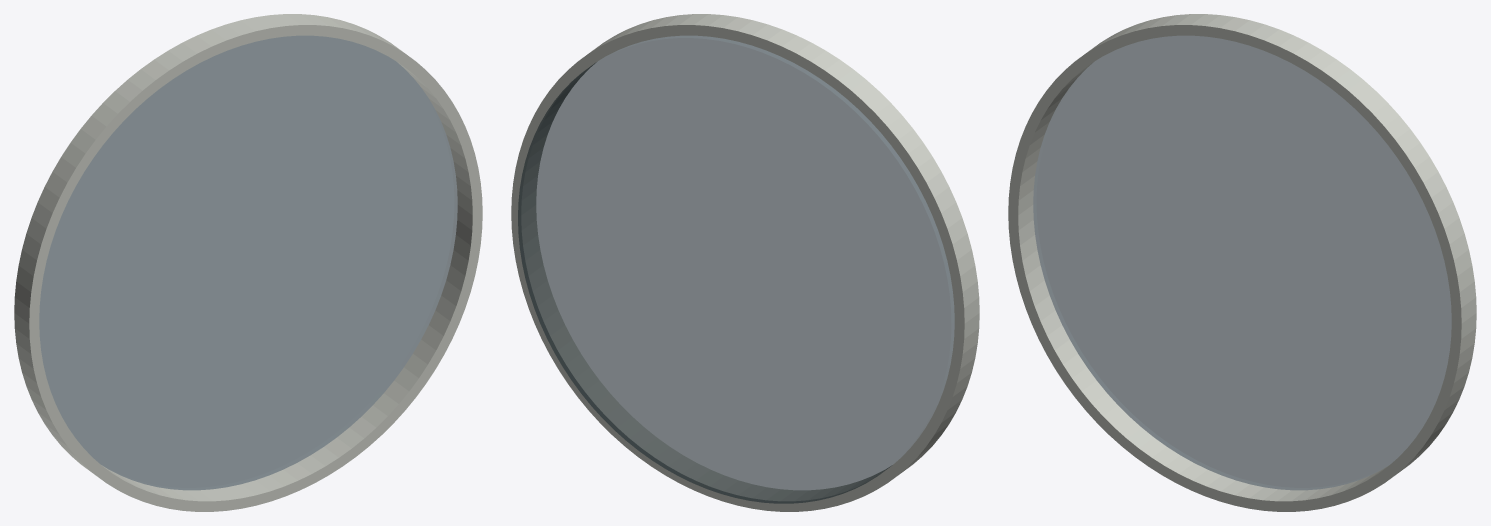
The model's file is moderno_circle.glb.
3 renders of one model, left to right at view 1: azimuth 30°, elevation 25°; view 2: azimuth 150°, elevation 25°; view 3: azimuth 330°, elevation 25°, orthographic.
Parts seen in each view (by area): view 1: window_glass#0001, window_reveal#0001; view 2: window_glass#0001, window_reveal#0001; view 3: window_glass#0001, window_reveal#0001.
Boxes of the visible parts, <box> form: window_glass#0001: <box>39,35,457,490</box>; window_reveal#0001: <box>14,14,482,511</box>; window_glass#0001: <box>518,35,954,503</box>; window_reveal#0001: <box>511,14,979,511</box>; window_glass#0001: <box>1033,35,1451,490</box>; window_reveal#0001: <box>1008,14,1476,511</box>.
Bounding box in the file's own units: 1.6 × 1.6 × 0.112.
